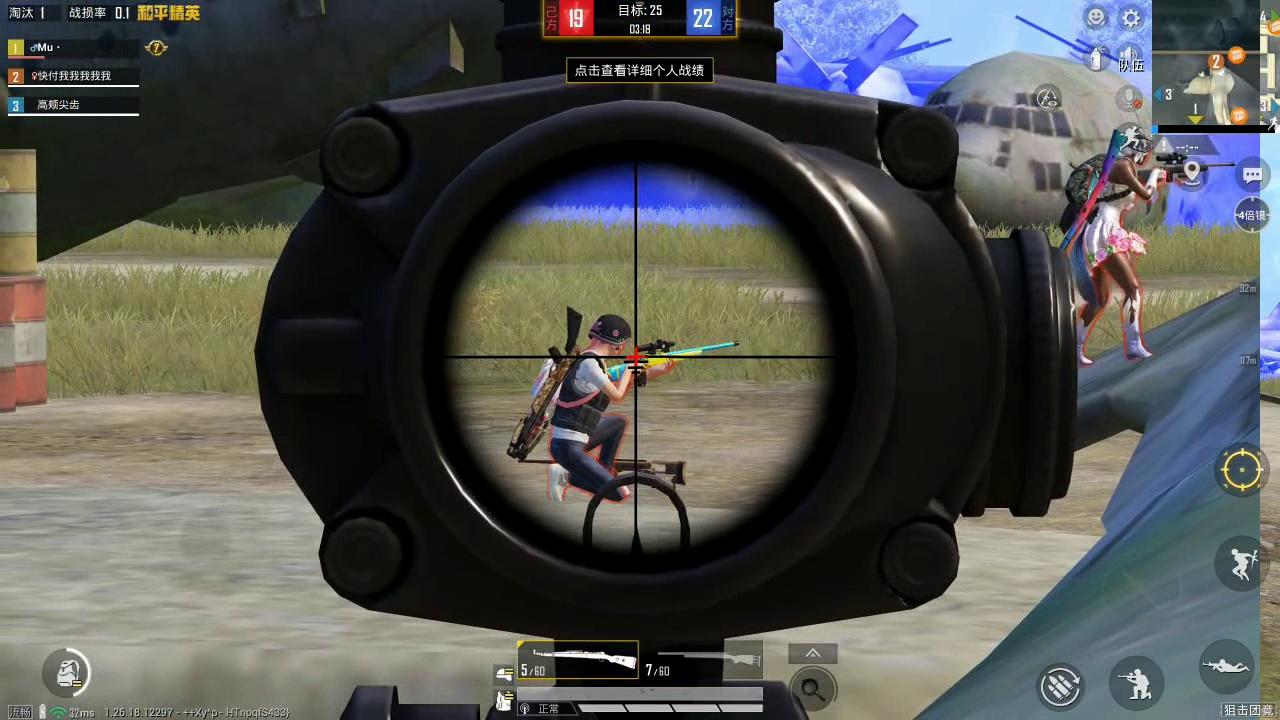enemy: (536, 308, 644, 507), (1067, 128, 1158, 356)
